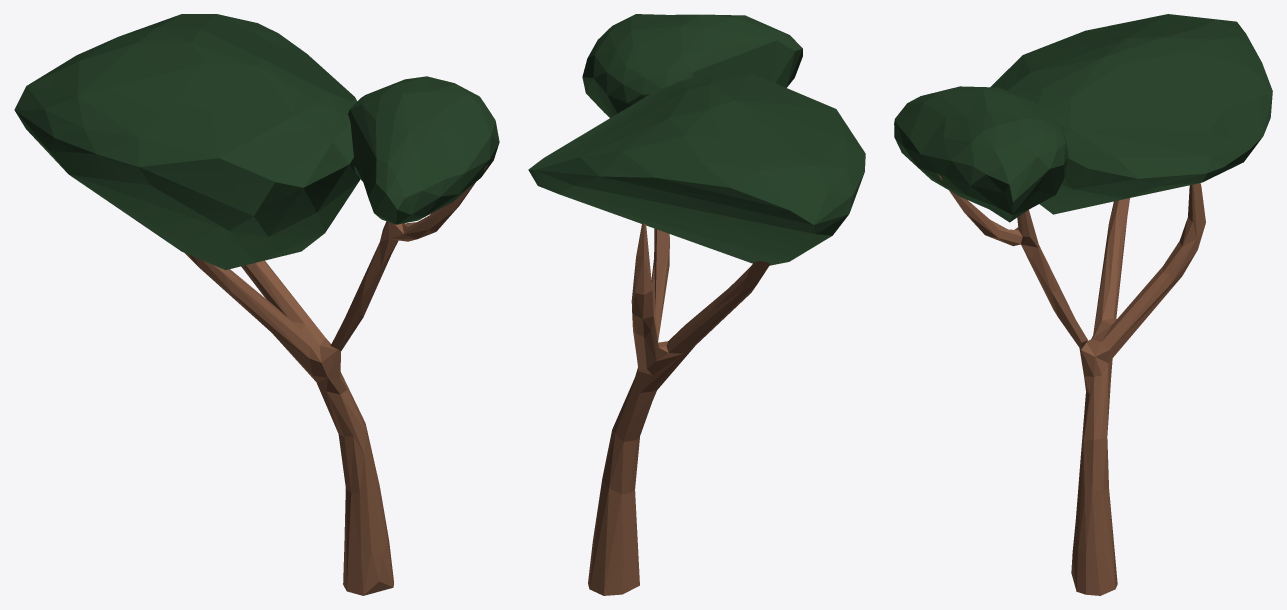
File: SM_tree_fantasy_04.fbx
The picture shows the model from 3 angles, left to right: view 1: azimuth 30°, elevation 25°; view 2: azimuth 150°, elevation 25°; view 3: azimuth 270°, elevation 25°; orthographic projection. The views are drawn at different scales.
Visible parts, largest first — view 1: Object232; view 2: Object232; view 3: Object232.
Boxes of the visible parts, <box> form: Object232: <box>14,14,499,595</box>; Object232: <box>528,14,865,595</box>; Object232: <box>894,14,1272,595</box>.
Bounding box in the file's own units: 187 × 193 × 275.
